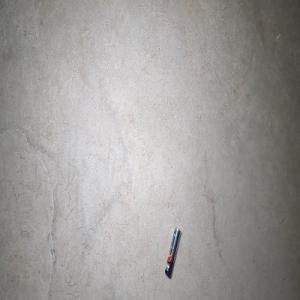Battery: (164, 226, 181, 278)
